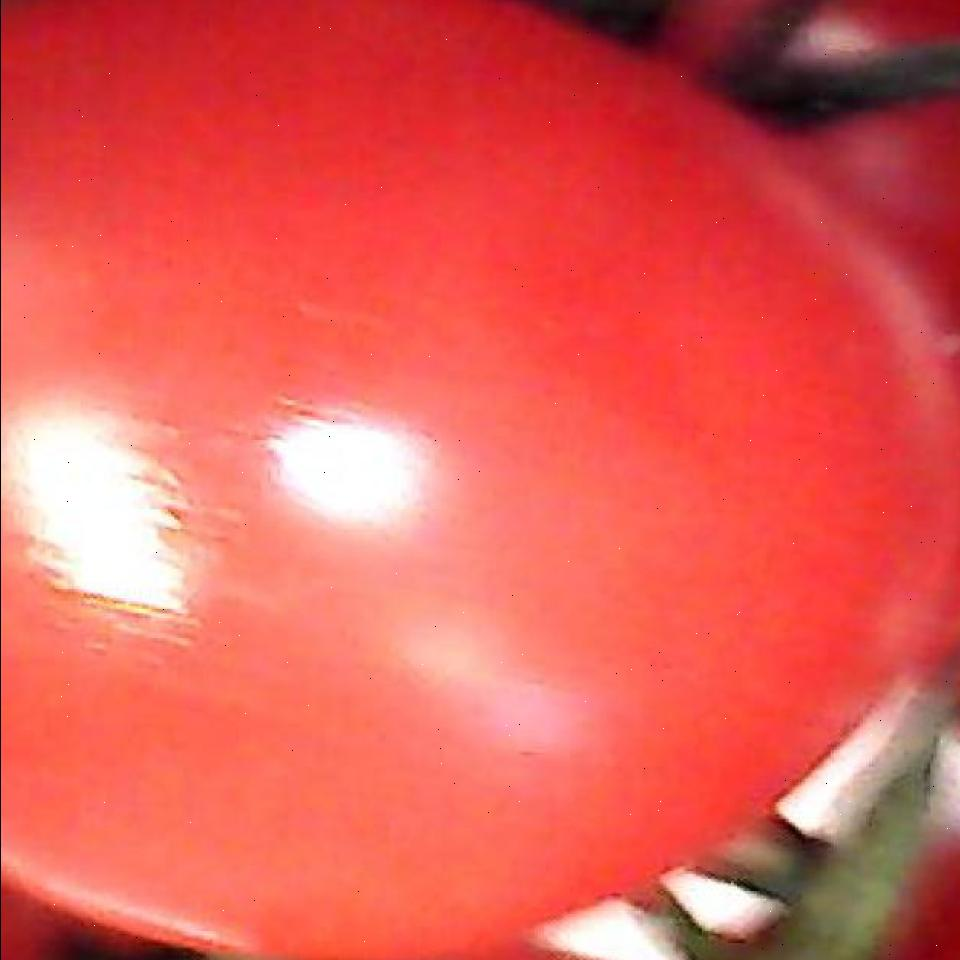Healthy: (0, 0, 916, 960)
